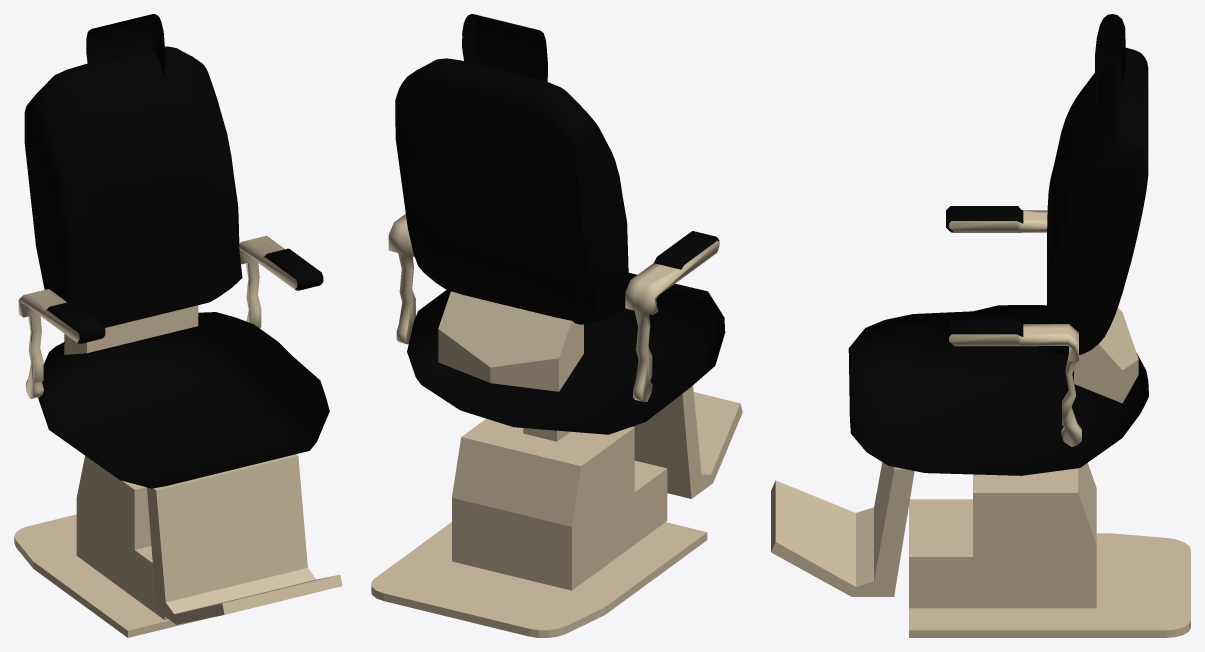
3 renders of one model, left to right at view 1: azimuth 30°, elevation 25°; view 2: azimuth 150°, elevation 25°; view 3: azimuth 270°, elevation 25°, orthographic. The views are drawn at different scales.
Parts seen in each view (by area): view 1: U-12; view 2: U-12; view 3: U-12.
Boxes of the visible parts, x1,y1,x2,y2 form: U-12: (14, 14, 342, 637); U-12: (371, 14, 742, 637); U-12: (771, 14, 1190, 637).
Size of the model in its own units: 63.34 by 130 by 88.7.
